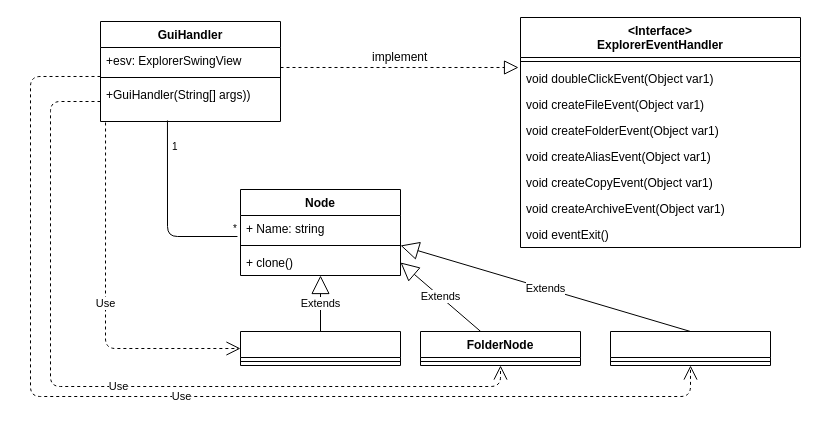
Image size: 818x428. Some labels were removed from this diagram. Here are the shapes that lost their labels. From the top down, the centre of each, then its label:
At point 320,348: "FileNode".
At point 690,348: "AliasNode".
